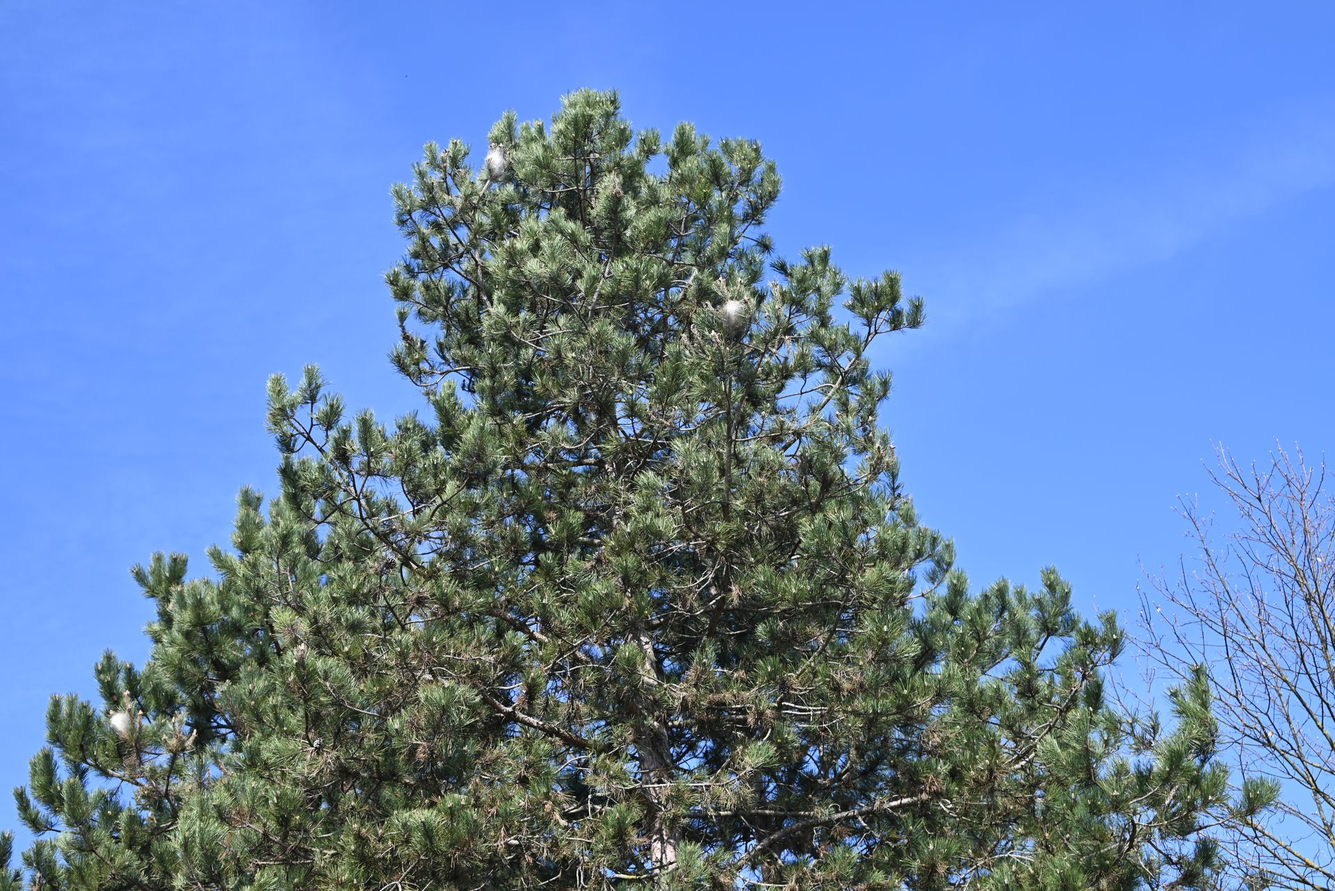thaumatopoea pityocampa jajno gnijezdo: (480, 141, 518, 190), (721, 293, 752, 333), (108, 708, 139, 746)
